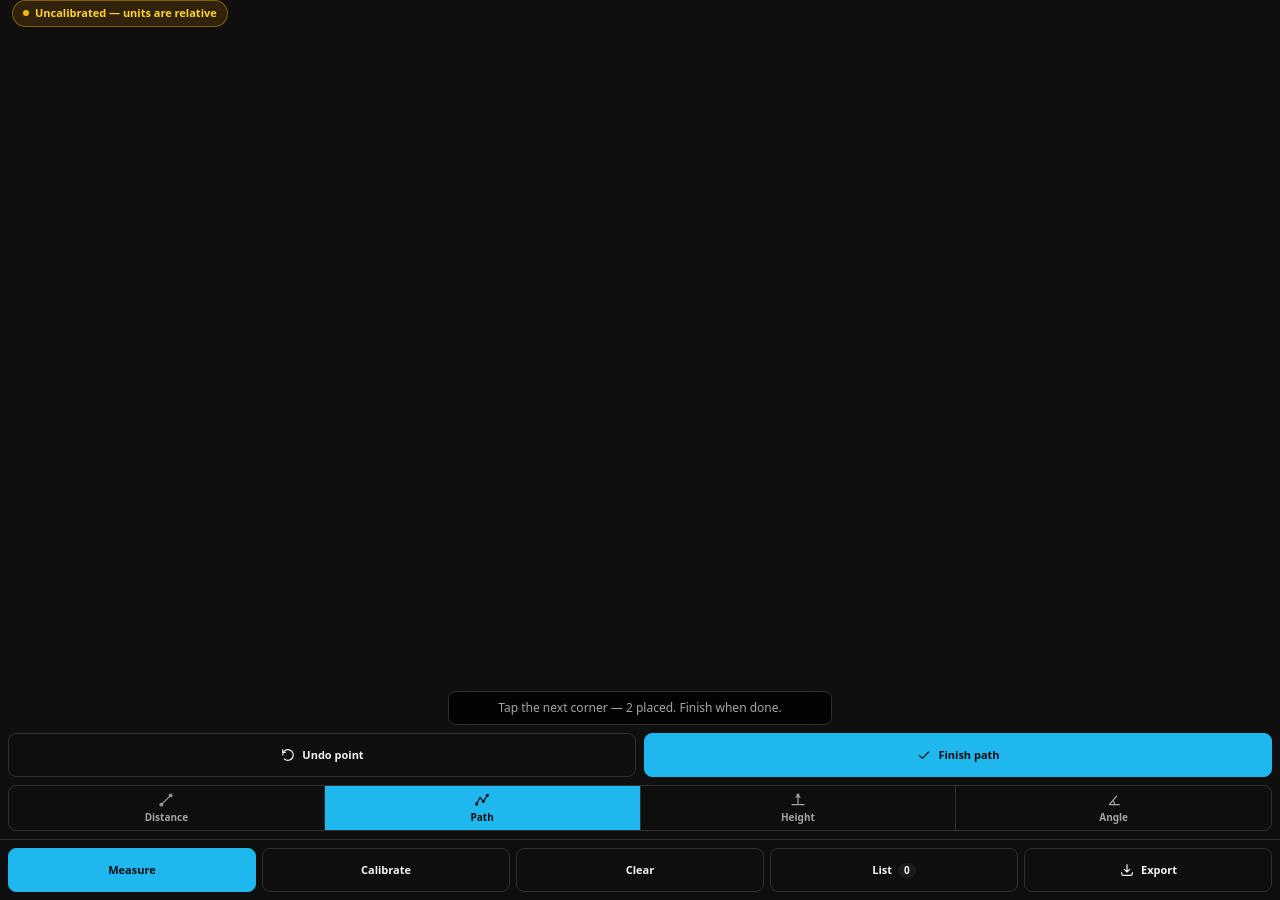
Test case: tool switcher › offers Undo and Finish only when they apply
Expected: the button "Undo point" is shown, [8,733,636,777]
Click the button "Finish path": x=958, y=755 [644,733,1272,777]
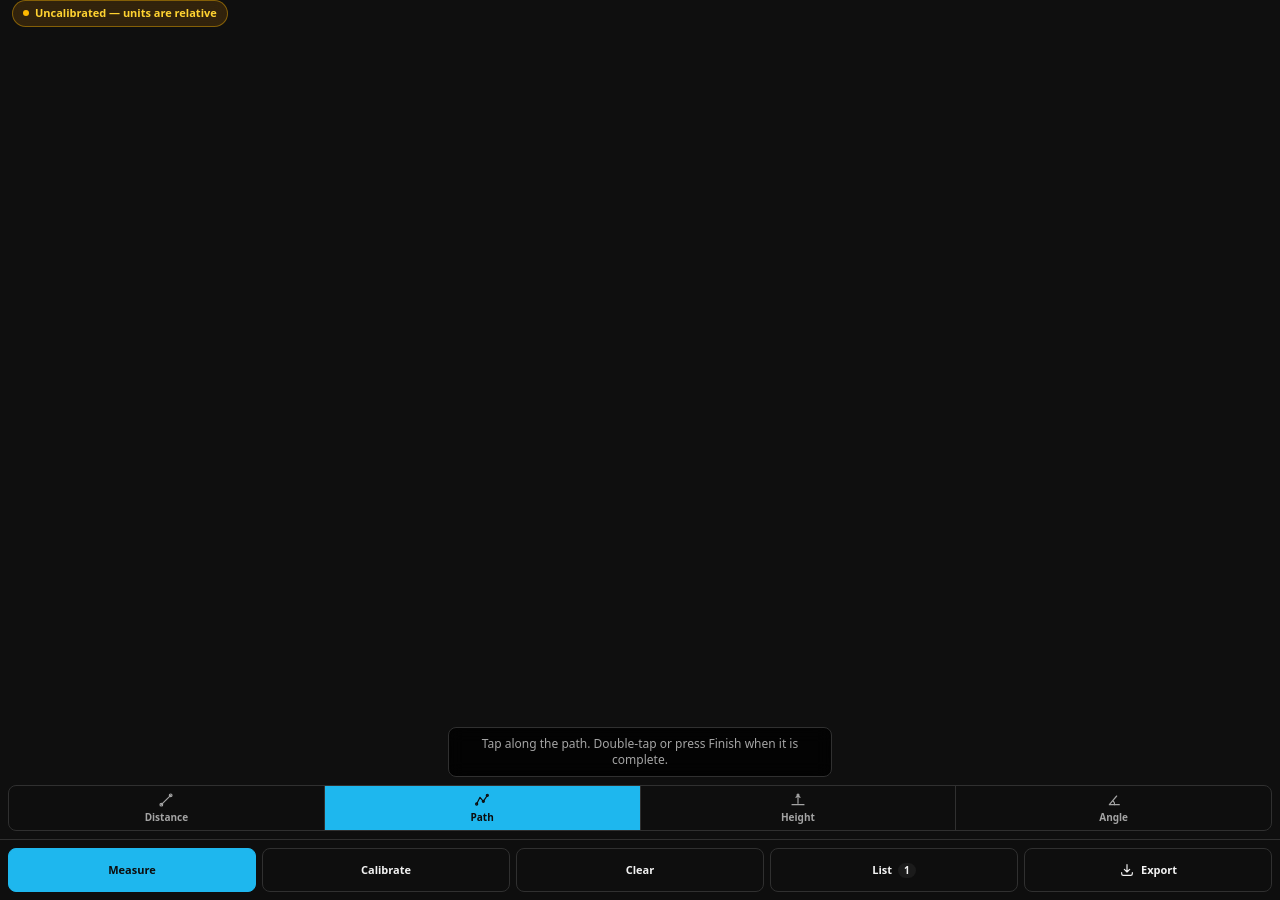
Expected: the button "List 1" is shown, [770,848,1018,892]
